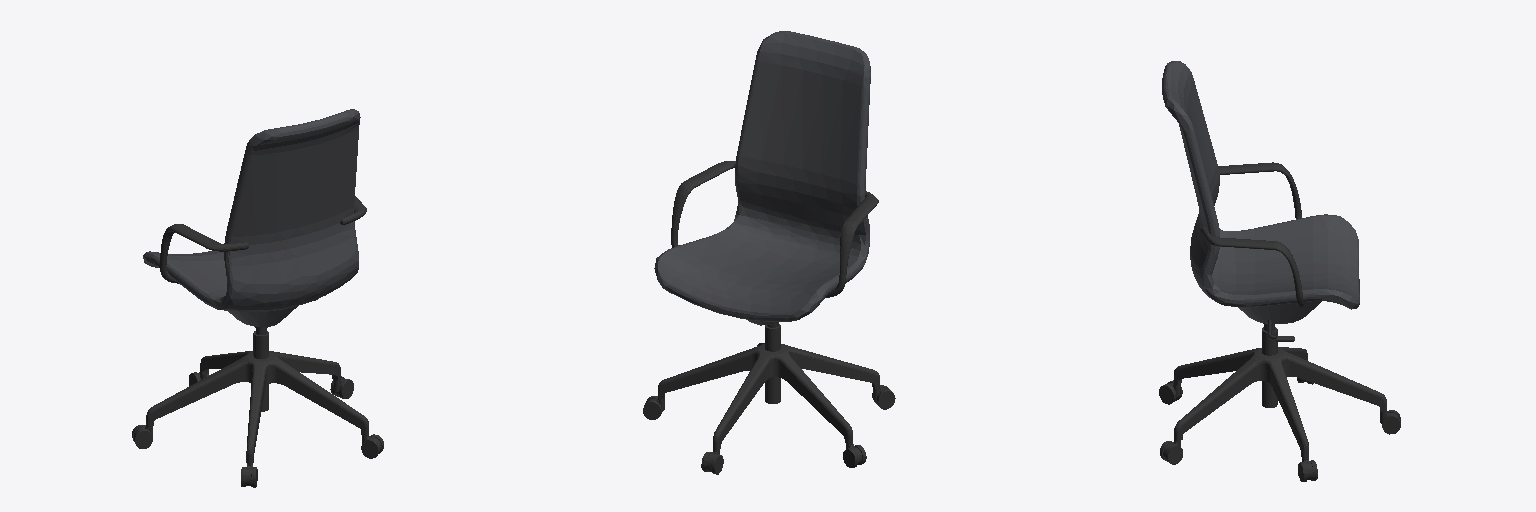
File: Chair.obj
The picture shows the model from 3 angles: view 1: azimuth 30°, elevation 25°; view 2: azimuth 150°, elevation 25°; view 3: azimuth 270°, elevation 25°; orthographic projection.
Parts seen in each view (by area): view 1: Твердое_тело1_5; view 2: Твердое_тело1_5; view 3: Твердое_тело1_5.
Part boxes in pixels (bbox=[...]): Твердое_тело1_5: bbox=[132, 109, 383, 487]; Твердое_тело1_5: bbox=[643, 31, 895, 474]; Твердое_тело1_5: bbox=[1159, 61, 1400, 481].
Bounding box in the file's own units: 0.6678 × 1.02 × 0.6361.